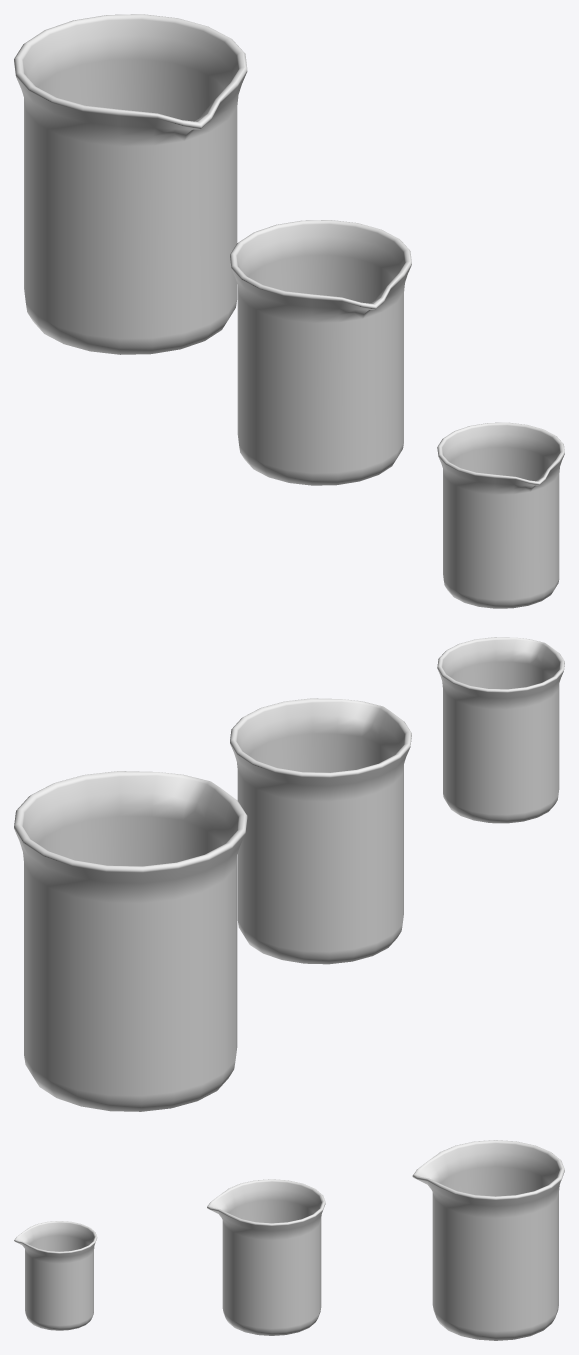
The model's file is lab_beakers_set.glb.
3 views of the same model, one above another, from view 1: azimuth 30°, elevation 25°; view 2: azimuth 150°, elevation 25°; view 3: azimuth 270°, elevation 25° (orthographic). The views are drawn at different scales.
Visible parts, largest first — view 1: Bequer_500mL, Bequer_250mL, Bequer_100mL; view 2: Bequer_500mL, Bequer_250mL, Bequer_100mL; view 3: Bequer_500mL, Bequer_250mL, Bequer_100mL.
Boxes of the visible parts, x1,y1,x2,y2 form: Bequer_500mL: (14, 14, 247, 354); Bequer_250mL: (230, 220, 411, 485); Bequer_100mL: (437, 422, 564, 608); Bequer_500mL: (14, 771, 247, 1111); Bequer_250mL: (230, 698, 411, 964); Bequer_100mL: (437, 637, 564, 823); Bequer_500mL: (412, 1140, 564, 1340); Bequer_250mL: (207, 1179, 325, 1335); Bequer_100mL: (14, 1221, 97, 1330).
Size of the model in its own units: 0.1247 by 0.1492 by 0.4969.
1 material, 1 textured.
